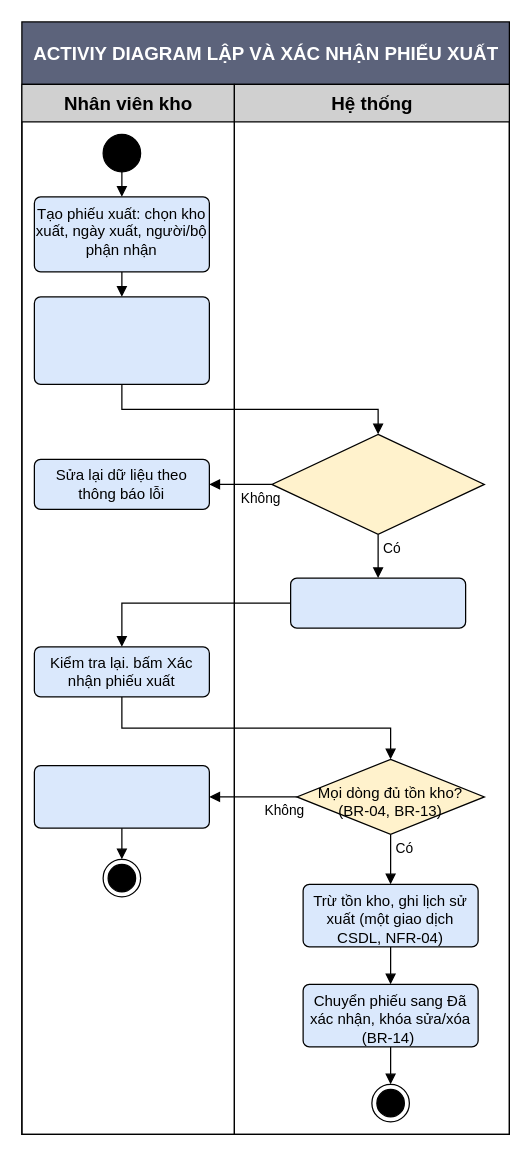
Image size: 531x1156. Some labels were removed from this diagram. Each missing label, with the centre of its shape:
Lưu phiếu, trạng thái Nháp: the point at 377,602
Nhận thông báo tồn không đủ (nêu sản phẩm thiếu); phiếu giữ Nháp: the point at 121,796
Số lượng nguyên dương, không trùng dòng?: the point at 377,483
Thêm sản phẩm, số lượng (hệ thống hiển thị tồn hiện tại), bấm Lưu nháp: the point at 121,340
